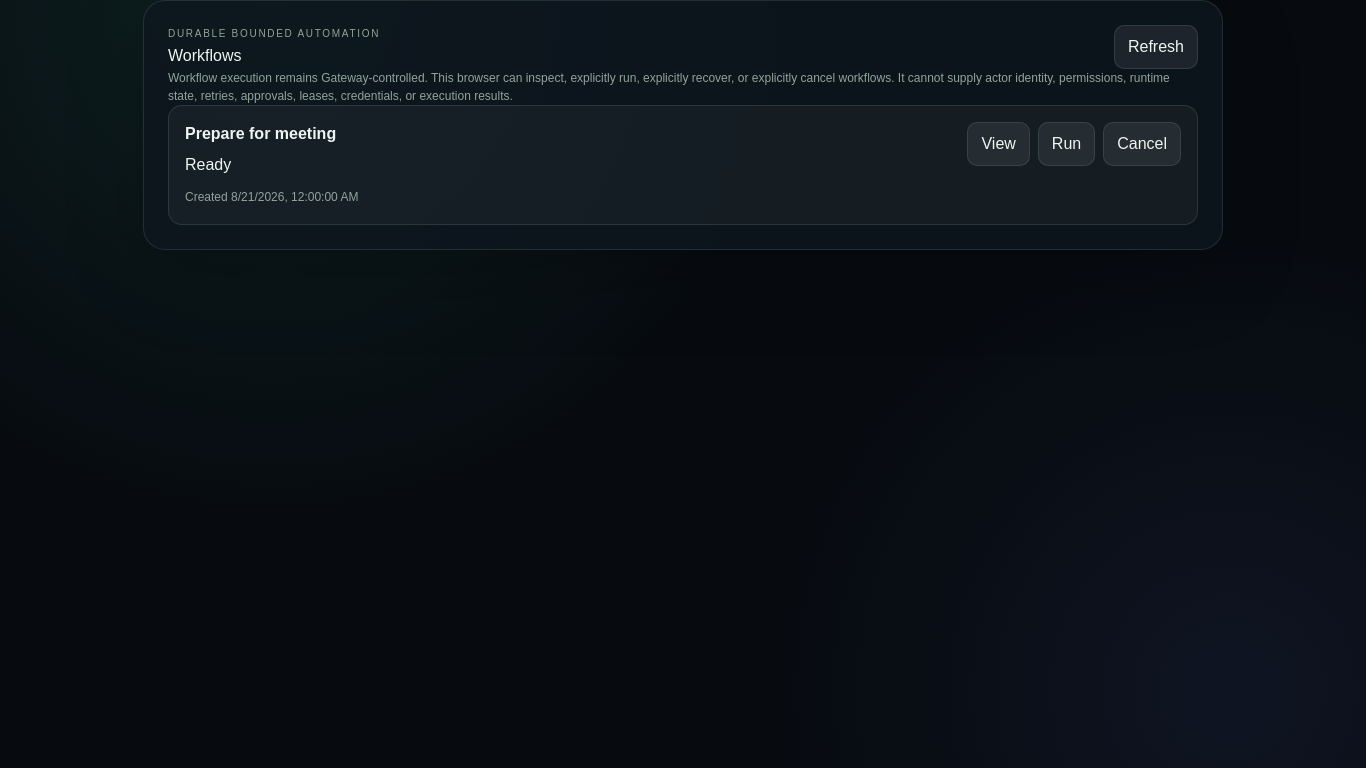
Scenario: WorkflowPanel › lists workflows and opens trusted workflow detail
This screenshot has width=1366, height=768.
Check: the text "Prepare for meeting" is shown, box [185, 125, 336, 142]
Click the button "View": (999, 144) [967, 122, 1030, 166]
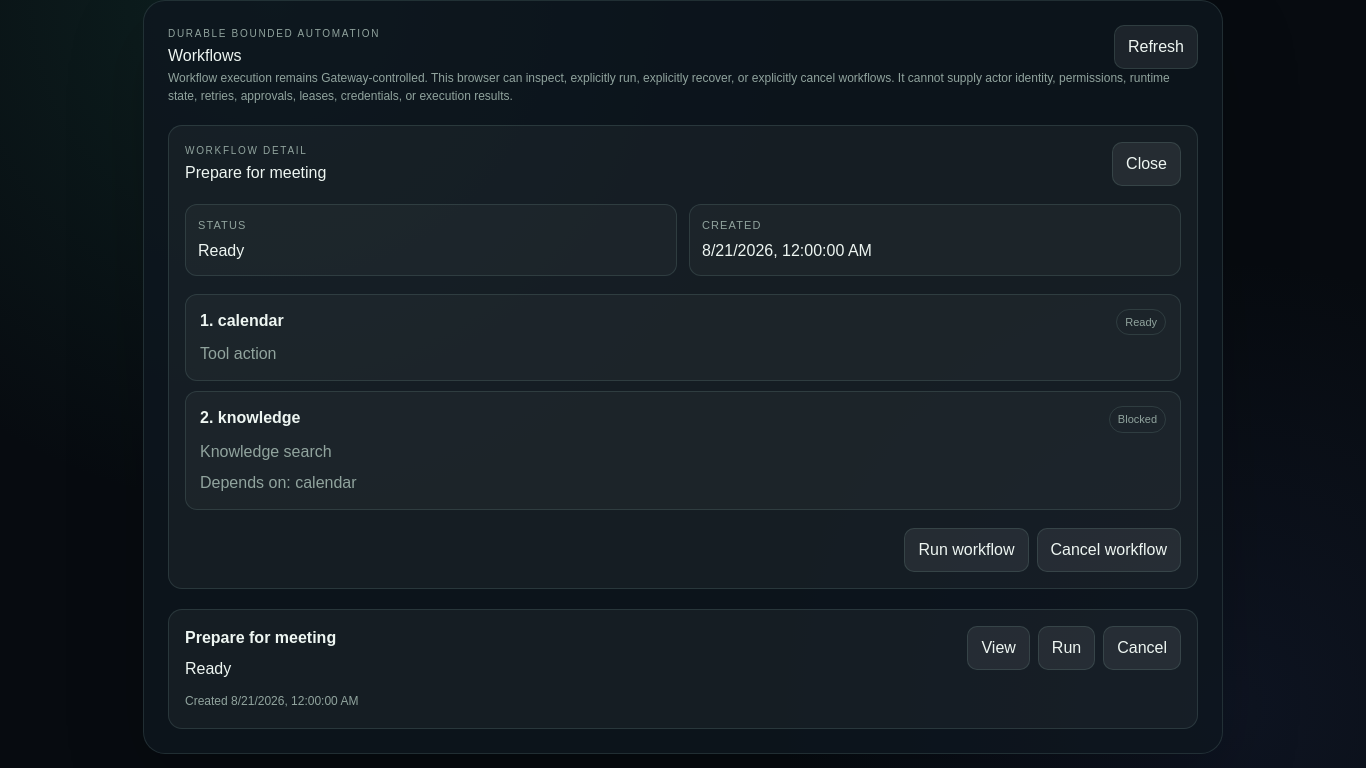
Check: the element named "Selected workflow" is shown, box [168, 125, 1198, 588]
Check: the text "1. calendar" is shown, box [200, 308, 284, 332]
Check: the text "2. knowledge" is shown, box [200, 406, 300, 430]
